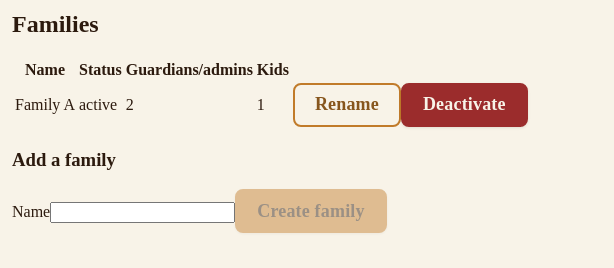
Test case: FamiliesTab › shows an error when rename fails
The width and height of the screenshot is (614, 268).
Click the button "Rename". click: x=347, y=105
box: 293,83 -> 401,127
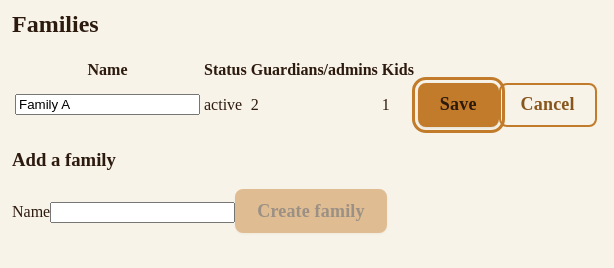
Click the button "Save". click: x=458, y=105
box: 418,83 -> 499,127
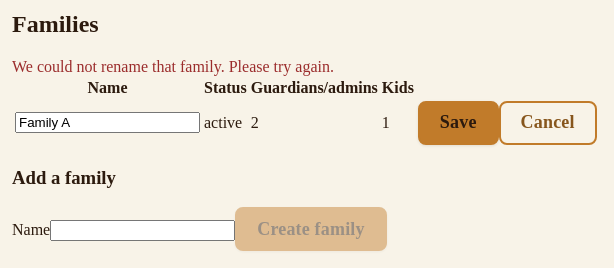
Now the message shows "could not rename", box 12,58 -> 334,75
